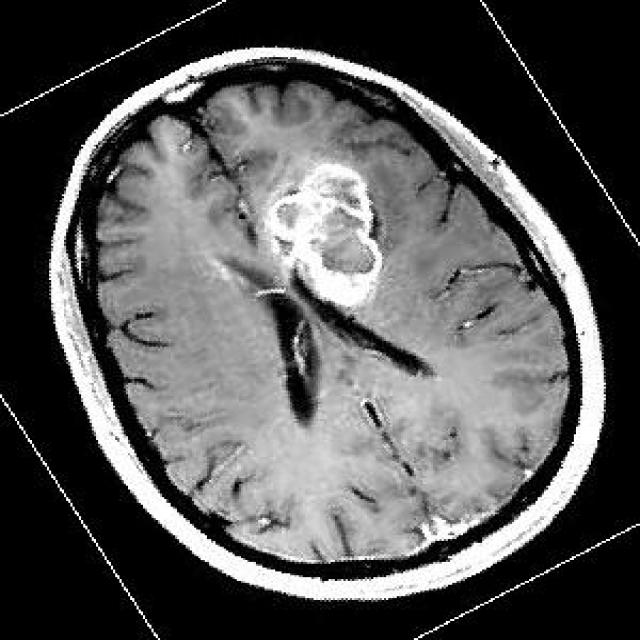Tumor-Cell: (263, 159, 404, 319)
